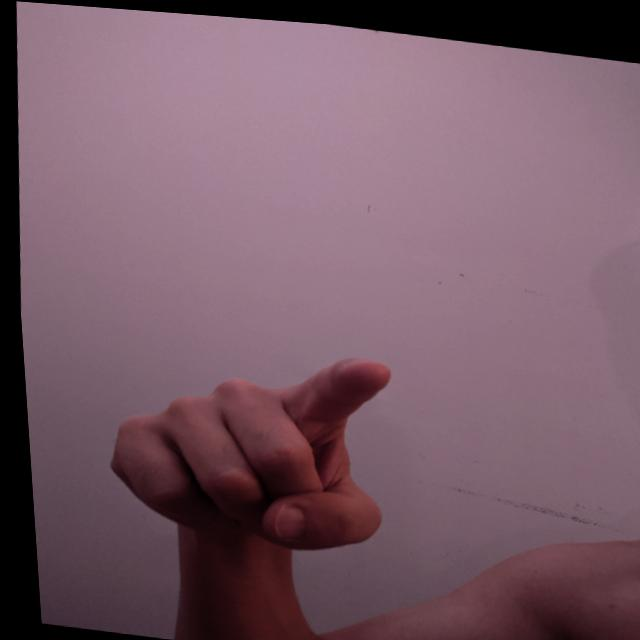Z: (87, 320, 404, 564)
